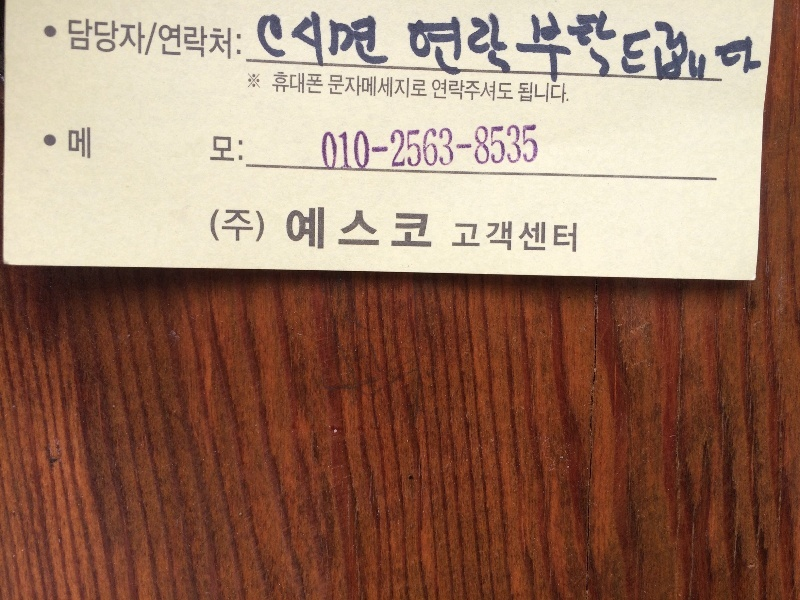text: (513, 6, 528, 96), (529, 6, 544, 96), (545, 6, 560, 96), (561, 6, 576, 96), (577, 6, 592, 96), (593, 6, 608, 96), (609, 6, 624, 96), (625, 6, 640, 96), (641, 6, 656, 96), (657, 6, 672, 96), (673, 6, 688, 96), (689, 6, 704, 96), (705, 6, 720, 96), (721, 6, 736, 96), (737, 6, 752, 96), (753, 6, 768, 96), (417, 10, 432, 80), (433, 10, 448, 80), (449, 10, 464, 80), (465, 10, 480, 80), (481, 10, 496, 80), (497, 10, 512, 80), (257, 8, 272, 74), (273, 8, 288, 74), (289, 8, 304, 74), (305, 8, 320, 74), (321, 8, 336, 74), (337, 8, 352, 74), (353, 8, 368, 74), (369, 8, 384, 74), (404, 10, 416, 80), (321, 123, 336, 171), (337, 123, 352, 171), (353, 123, 368, 171), (369, 123, 384, 171), (385, 123, 400, 171), (401, 123, 416, 171), (417, 123, 432, 171), (433, 123, 448, 171), (449, 123, 464, 171), (465, 123, 480, 171), (481, 123, 496, 171), (497, 123, 512, 171), (513, 123, 528, 171), (289, 206, 304, 250), (305, 206, 320, 250), (321, 206, 336, 250), (337, 206, 352, 250), (353, 206, 368, 250), (369, 206, 384, 250), (385, 206, 400, 250), (401, 206, 416, 250), (417, 206, 432, 250), (49, 124, 64, 165), (65, 124, 80, 165), (81, 124, 96, 165), (97, 124, 112, 165), (113, 124, 128, 165), (129, 124, 144, 165), (145, 124, 160, 165), (161, 124, 176, 165), (177, 124, 192, 165), (193, 124, 208, 165), (209, 124, 224, 165), (225, 124, 240, 165), (49, 17, 64, 57), (65, 17, 80, 57), (81, 17, 96, 57), (97, 17, 112, 57), (113, 17, 128, 57), (129, 17, 144, 57), (161, 24, 176, 62), (177, 24, 192, 62), (193, 24, 208, 62), (209, 24, 224, 62), (225, 24, 240, 62), (385, 8, 393, 74), (529, 123, 540, 171), (561, 221, 577, 254), (145, 17, 158, 57), (225, 209, 240, 242), (241, 209, 256, 242), (465, 221, 480, 254), (481, 221, 496, 254), (497, 221, 512, 254), (513, 221, 528, 254), (529, 221, 544, 254), (545, 221, 560, 254), (210, 209, 224, 242), (337, 73, 352, 99), (353, 73, 368, 99), (369, 73, 384, 99), (385, 73, 400, 99), (401, 73, 416, 99), (273, 71, 288, 95), (289, 71, 304, 95), (305, 71, 320, 95), (529, 81, 544, 105), (545, 81, 560, 105), (433, 79, 448, 101), (449, 79, 464, 101), (465, 79, 480, 101), (481, 79, 496, 101), (497, 79, 512, 101), (257, 209, 266, 242), (455, 221, 464, 254), (417, 73, 428, 99), (517, 81, 528, 105), (42, 124, 48, 165), (327, 73, 336, 99), (561, 81, 569, 105), (44, 17, 48, 57), (247, 73, 256, 90), (254, 8, 256, 74), (285, 206, 288, 250), (241, 124, 244, 165), (511, 6, 512, 96), (769, 6, 770, 96), (158, 24, 160, 62), (321, 71, 324, 95), (513, 10, 514, 80), (257, 73, 261, 90), (319, 123, 320, 171), (241, 24, 242, 62), (513, 79, 514, 101)
